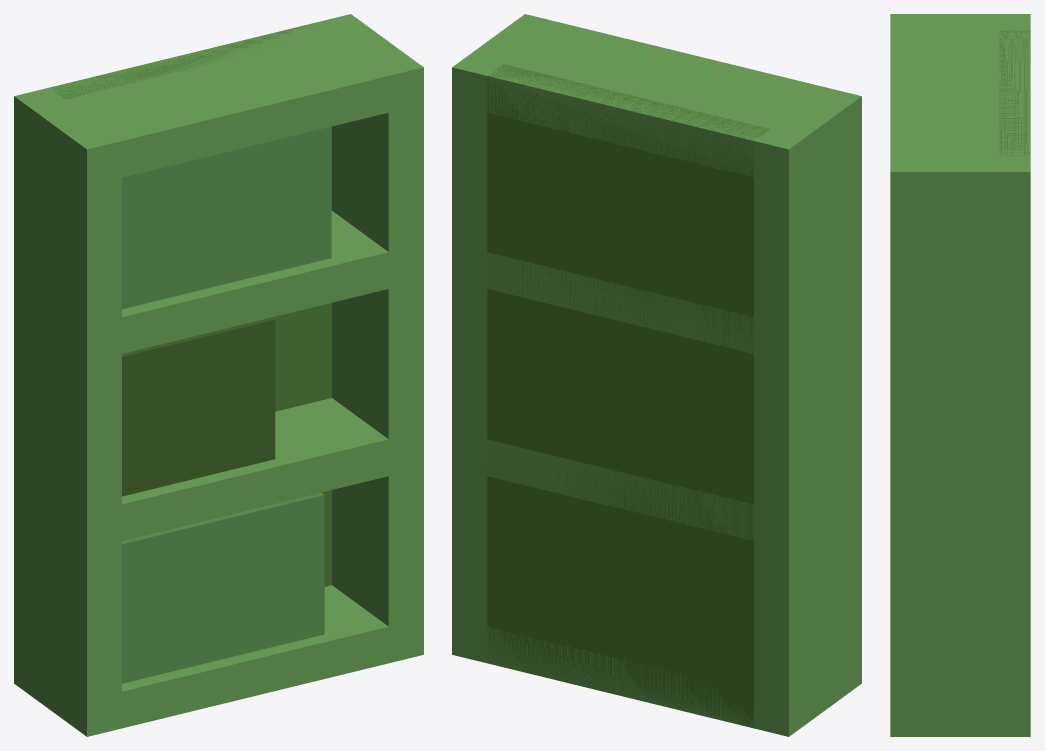
The model's file is bookshelf.glb.
The picture shows the model from 3 angles, left to right: view 1: azimuth 30°, elevation 25°; view 2: azimuth 150°, elevation 25°; view 3: azimuth 270°, elevation 25°; orthographic projection. The views are drawn at different scales.
Parts seen in each view (by area): view 1: bookshelf; view 2: bookshelf; view 3: bookshelf.
Part boxes in pixels (x1,y1,x2,y2): bookshelf: (14,14,423,736); bookshelf: (452,14,861,736); bookshelf: (890,14,1030,736).
Size of the model in its own units: 96 by 160 by 36.
